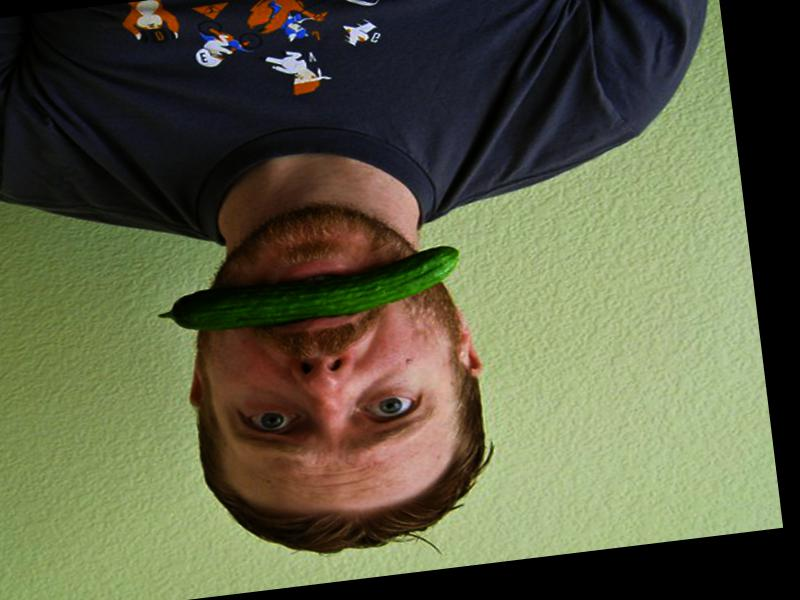Cucumber: (154, 243, 467, 337)
